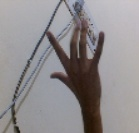hand: (44, 21, 106, 113)
